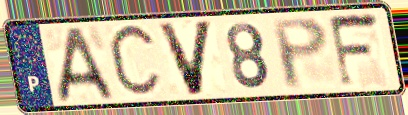8: (224, 20, 273, 92)
A: (56, 24, 118, 105)
C: (105, 20, 165, 103)
F: (326, 10, 384, 91)
P: (268, 14, 331, 92)
V: (154, 18, 217, 99)
